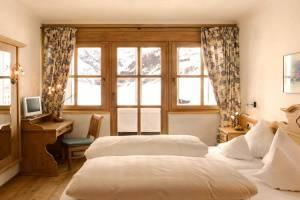window: (62, 42, 222, 110)
